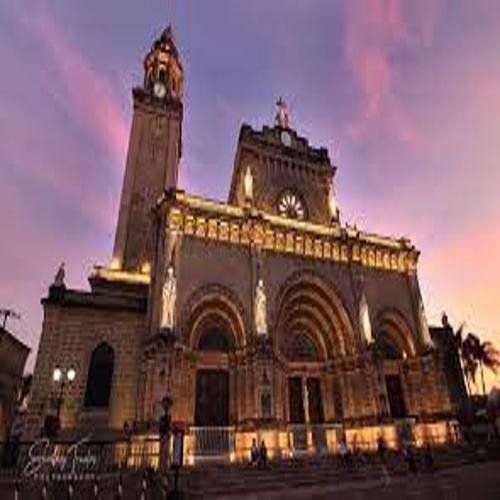Manila Cathedral Church: (32, 17, 439, 436)
